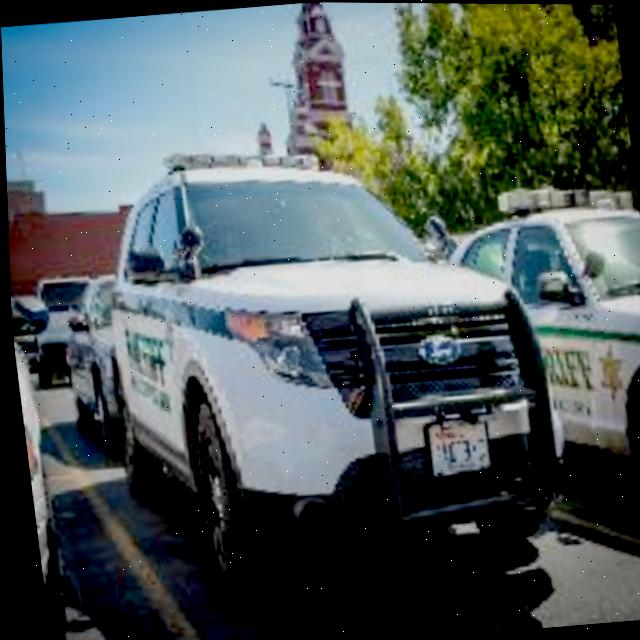emergency: (86, 122, 573, 613)
